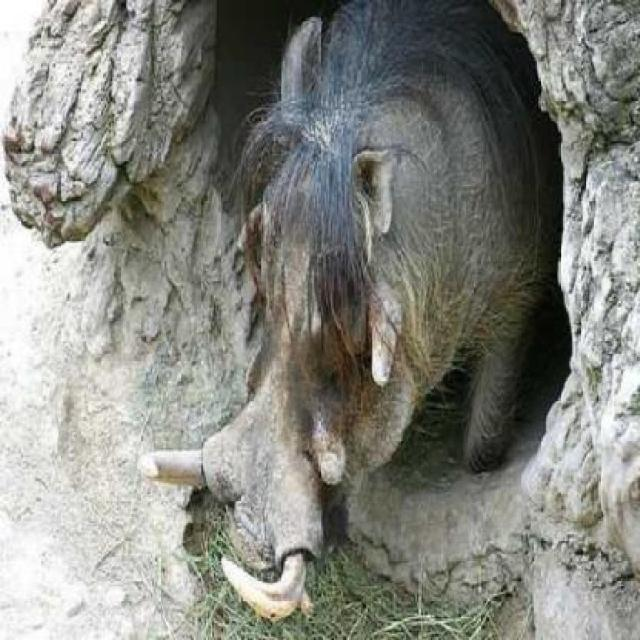pig: (173, 0, 571, 635)
